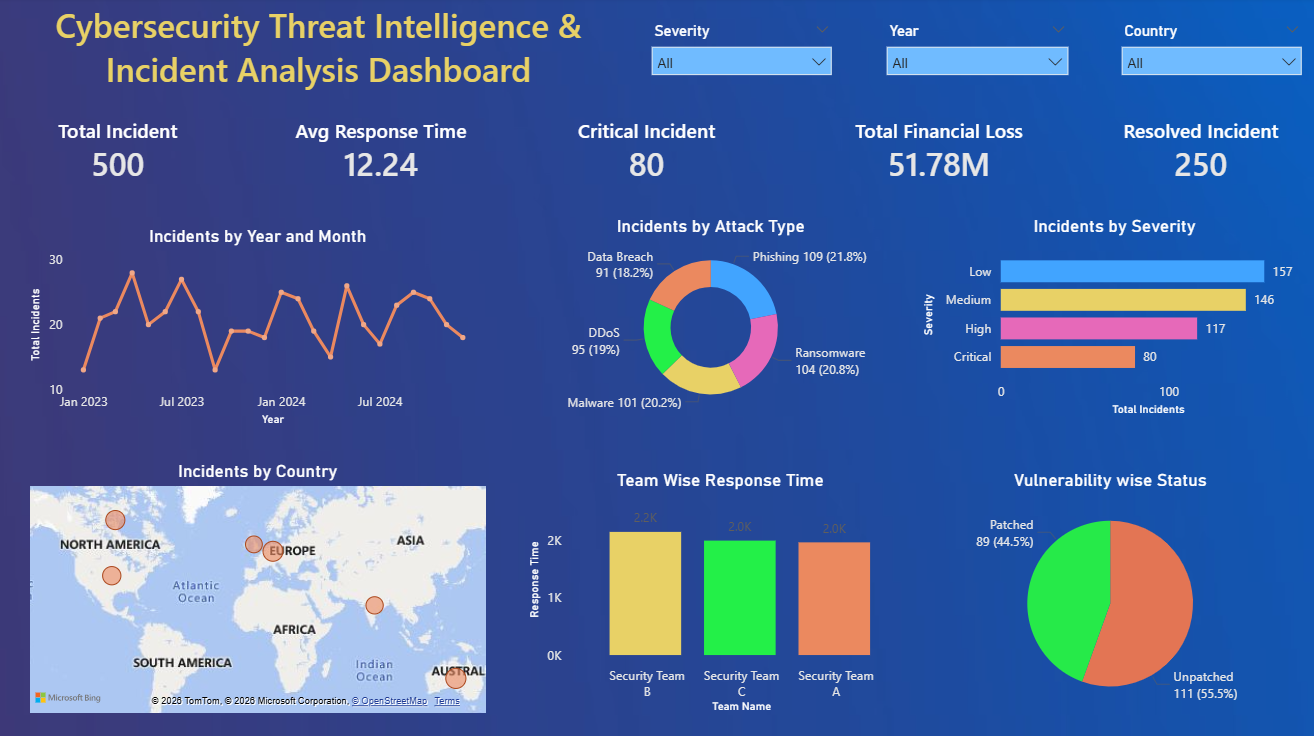

This screenshot's page, from the dashboard's own definition file:
{"tool":"powerbi","page":{"name":"Dashboard","canvas":[1280,720],"ordinal":0},"visuals":[{"type":"textbox","box":[0,0,622.5,107.4],"z":0},{"type":"card","title":"Total Incident","fields":{"Values":["cyber_incident_data.Total Incidents"]},"box":[27.7,115.8,179.8,67.6],"z":1000},{"type":"card","title":"Critical Incident","fields":{"Values":["cyber_incident_data.Critical Incidents"]},"box":[535.7,115.8,184.6,67.6],"z":2000},{"type":"card","title":"Avg Response Time","fields":{"Values":["cyber_incident_data.Avg Response Time"]},"box":[265.4,115.8,212.3,67.6],"z":3000},{"type":"card","title":"Total Financial Loss","fields":{"Values":["cyber_incident_data.Total Financial Loss"]},"box":[816.8,115.8,187,67.6],"z":4000},{"type":"card","title":"Resolved Incident","fields":{"Values":["cyber_incident_data.Resolved Incidents"]},"box":[1076.1,115.8,173.7,67.6],"z":5000},{"type":"lineChart","title":"Incidents by Year and Month","fields":{"Category":["cyber_incident_data.Date.Variation.Date Hierarchy.Year","cyber_incident_data.Date.Variation.Date Hierarchy.Month"],"Y":["cyber_incident_data.Total Incidents"]},"box":[27.7,220.8,450,197.9],"z":6000},{"type":"donutChart","title":" Incidents by Attack Type","fields":{"Category":["cyber_incident_data.Attack_Type"],"Y":["cyber_incident_data.Total Incidents"]},"box":[509.1,211.1,361.9,196.6],"z":7000},{"type":"barChart","title":"Incidents by Severity","fields":{"Category":["cyber_incident_data.Severity"],"Y":["cyber_incident_data.Total Incidents"]},"box":[889.1,211.1,381.2,197.9],"z":8000},{"type":"map","title":"Incidents by Country","fields":{"Category":["cyber_incident_data.Country"],"Size":["cyber_incident_data.Total Incidents"]},"box":[27.7,447.6,450,248.5],"z":9000},{"type":"slicer","fields":{"Values":["cyber_incident_data.Date.Variation.Date Hierarchy.Year"]},"box":[849.3,19.3,195.4,59.1],"z":10000},{"type":"slicer","fields":{"Values":["cyber_incident_data.Severity"]},"box":[622.5,19.3,194.2,59.1],"z":11000},{"type":"slicer","fields":{"Values":["cyber_incident_data.Country"]},"box":[1076.1,19.3,194.2,59.1],"z":12000},{"type":"columnChart","title":"Team Wise Response Time","fields":{"Category":["cyber_response_data.Team_Name"],"Y":["Sum(cyber_response_data.Response_Time_Hours)"]},"box":[509.1,456,380,240.1],"z":13000},{"type":"pieChart","title":"Vulnerability wise Status","fields":{"Category":["cyber_vulnerability_data.Patch_Status"],"Y":["CountNonNull(cyber_vulnerability_data.Vulnerability_ID)"]},"box":[889.1,456,372.8,240.1],"z":14000}]}

Visuals, with their boxes in screenshot pixels (x1, y1, x2, y2), scaled from the page's 1280x720 canvas onto the 1314x736 screenshot:
textbox: left=0, top=0, right=639, bottom=110
"Total Incident" card: left=28, top=118, right=213, bottom=187
"Critical Incident" card: left=550, top=118, right=739, bottom=187
"Avg Response Time" card: left=272, top=118, right=490, bottom=187
"Total Financial Loss" card: left=838, top=118, right=1030, bottom=187
"Resolved Incident" card: left=1105, top=118, right=1283, bottom=187
"Incidents by Year and Month" lineChart: left=28, top=226, right=490, bottom=428
" Incidents by Attack Type" donutChart: left=523, top=216, right=894, bottom=417
"Incidents by Severity" barChart: left=913, top=216, right=1304, bottom=418
"Incidents by Country" map: left=28, top=458, right=490, bottom=712
slicer - cyber_incident_data.Date.Variation.Date Hierarchy.Year: left=872, top=20, right=1072, bottom=80
slicer - cyber_incident_data.Severity: left=639, top=20, right=838, bottom=80
slicer - cyber_incident_data.Country: left=1105, top=20, right=1304, bottom=80
"Team Wise Response Time" columnChart: left=523, top=466, right=913, bottom=712
"Vulnerability wise Status" pieChart: left=913, top=466, right=1295, bottom=712
